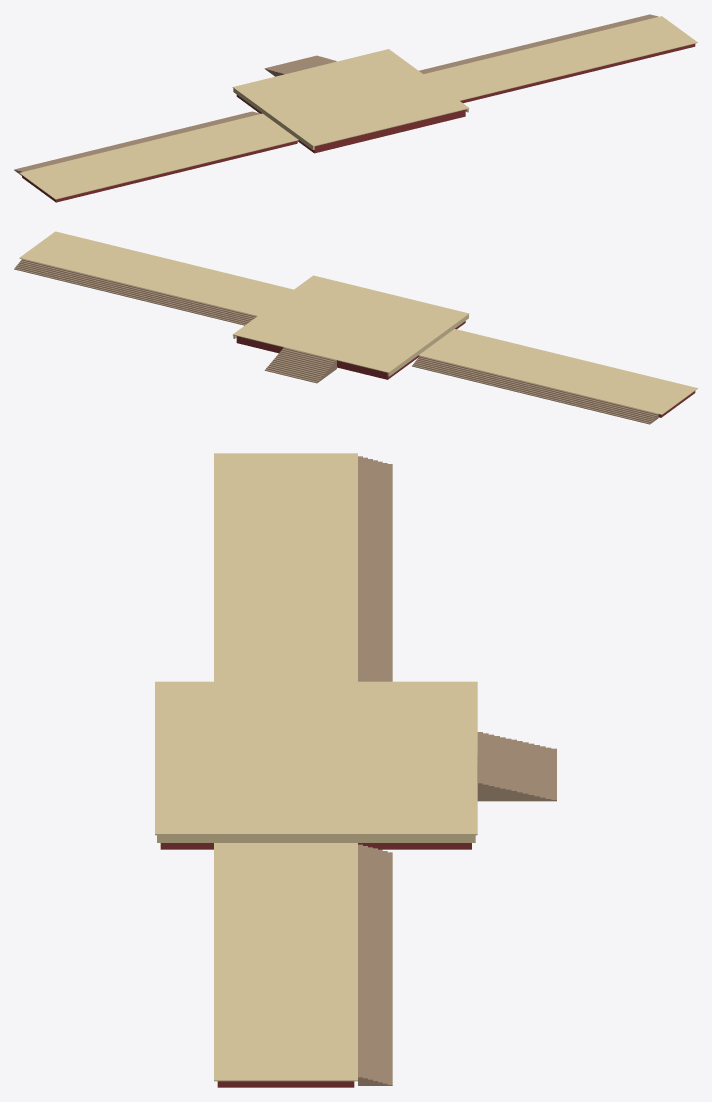
The model's file is KOL_T1_DAKSHINESHWAR__02_Main_Platform.fbx.
3 views of the same model, one above another, from view 1: azimuth 30°, elevation 25°; view 2: azimuth 150°, elevation 25°; view 3: azimuth 270°, elevation 25° (orthographic). The views are drawn at different scales.
Parts seen in each view (by area): view 1: KOL_T1_DAKSHINESHWAR__02_Main_Platform__KOL_T1_TempleCream, KOL_T1_DAKSHINESHWAR__02_Main_Platform__KOL_T1_TempleStone, KOL_T1_DAKSHINESHWAR__02_Main_Platform__KOL_T1_TempleRed; view 2: KOL_T1_DAKSHINESHWAR__02_Main_Platform__KOL_T1_TempleCream, KOL_T1_DAKSHINESHWAR__02_Main_Platform__KOL_T1_TempleStone, KOL_T1_DAKSHINESHWAR__02_Main_Platform__KOL_T1_TempleRed; view 3: KOL_T1_DAKSHINESHWAR__02_Main_Platform__KOL_T1_TempleCream, KOL_T1_DAKSHINESHWAR__02_Main_Platform__KOL_T1_TempleStone, KOL_T1_DAKSHINESHWAR__02_Main_Platform__KOL_T1_TempleRed.
Part boxes in pixels (x1,y1,x2,y2): KOL_T1_DAKSHINESHWAR__02_Main_Platform__KOL_T1_TempleCream: (19, 16, 697, 199); KOL_T1_DAKSHINESHWAR__02_Main_Platform__KOL_T1_TempleStone: (14, 14, 658, 175); KOL_T1_DAKSHINESHWAR__02_Main_Platform__KOL_T1_TempleRed: (22, 43, 695, 202); KOL_T1_DAKSHINESHWAR__02_Main_Platform__KOL_T1_TempleCream: (19, 231, 697, 414); KOL_T1_DAKSHINESHWAR__02_Main_Platform__KOL_T1_TempleStone: (14, 258, 658, 424); KOL_T1_DAKSHINESHWAR__02_Main_Platform__KOL_T1_TempleRed: (236, 321, 695, 417); KOL_T1_DAKSHINESHWAR__02_Main_Platform__KOL_T1_TempleCream: (155, 453, 477, 1081); KOL_T1_DAKSHINESHWAR__02_Main_Platform__KOL_T1_TempleStone: (358, 456, 556, 1085); KOL_T1_DAKSHINESHWAR__02_Main_Platform__KOL_T1_TempleRed: (160, 843, 471, 1087).
Bounding box in the file's own units: 391 × 5.25 × 106.
